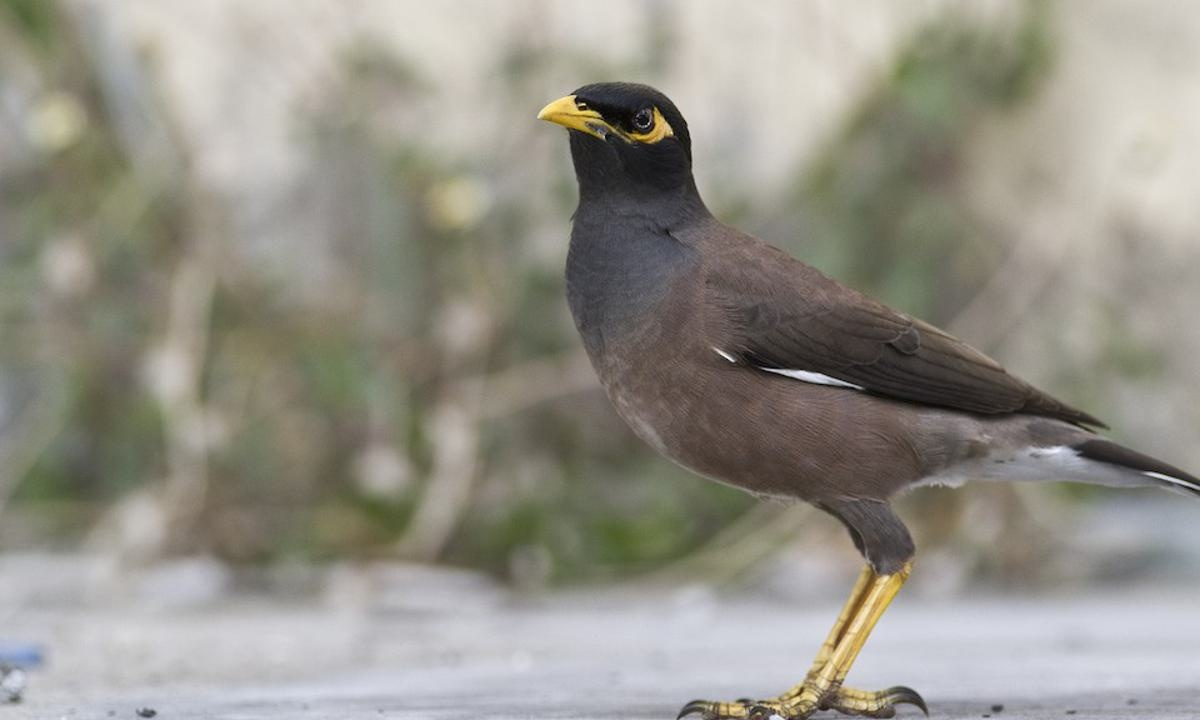myna: (517, 66, 1076, 720)
